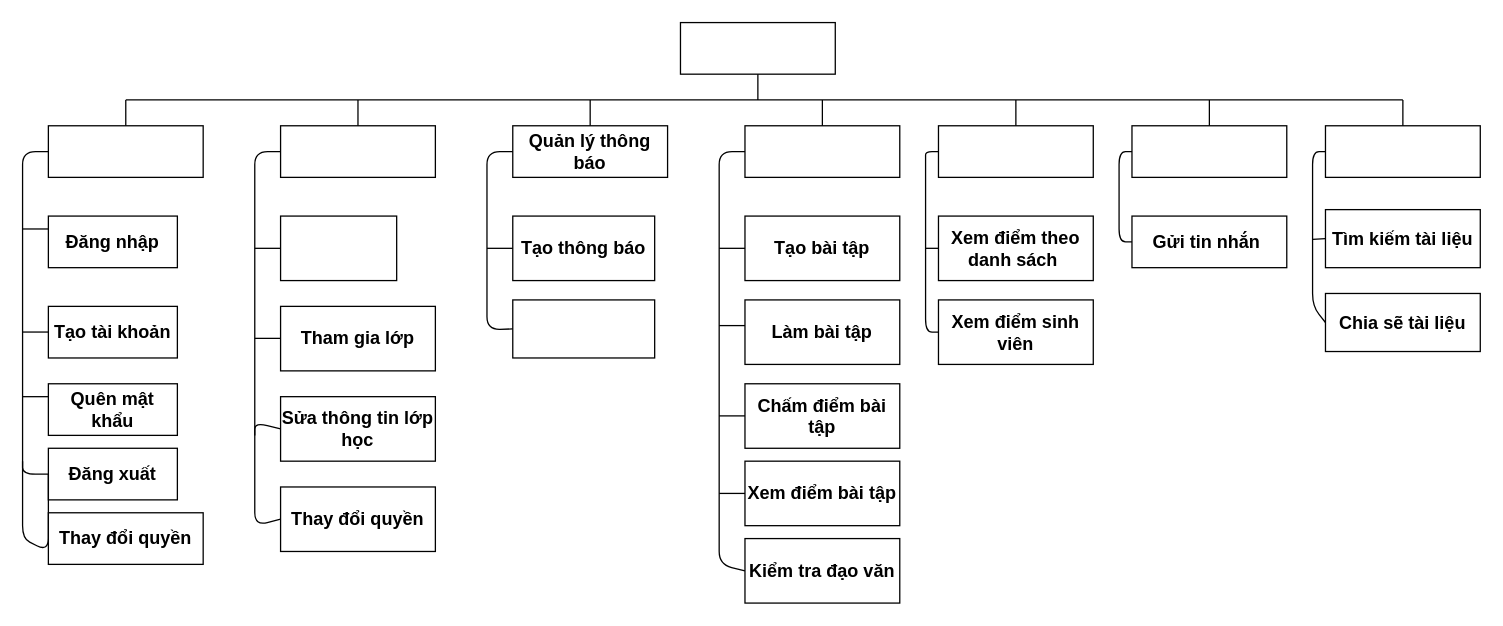
Some shapes in this 1503 by 626 pixel diagram are drawn without their labels. Each missing label, with the centre of its shape:
"LMS Learning" belongs at point (757, 47).
"Nhắn tin" belongs at point (1209, 150).
"Quản lý bài tập" belongs at point (822, 150).
"Quản lý lớp học" belongs at point (357, 150).
"Quản lý tài khoản" belongs at point (125, 150).
"Quản lý tài liệu Tài liệu" belongs at point (1402, 150).
"Thống kê điểm" belongs at point (1015, 150).
"Tạo lớp" belongs at point (338, 248).
"Xem ,sửa , xóa thông báo" belongs at point (583, 328).
